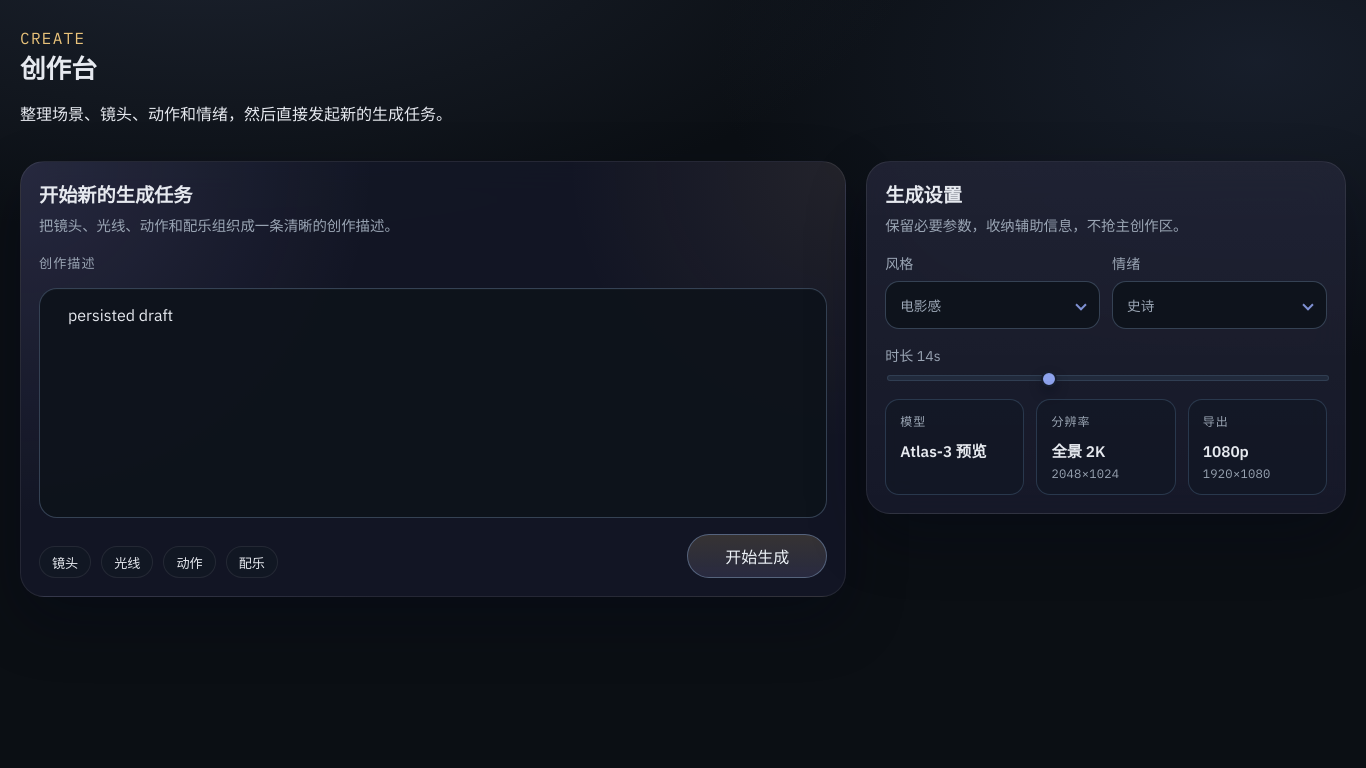
CreatePage recovery › does not overwrite the local draft when the same active session updates
The width and height of the screenshot is (1366, 768).
Replace the text in the text box showing "persisted draft" with "locally edited draft": (433, 403) [39,288,827,518]
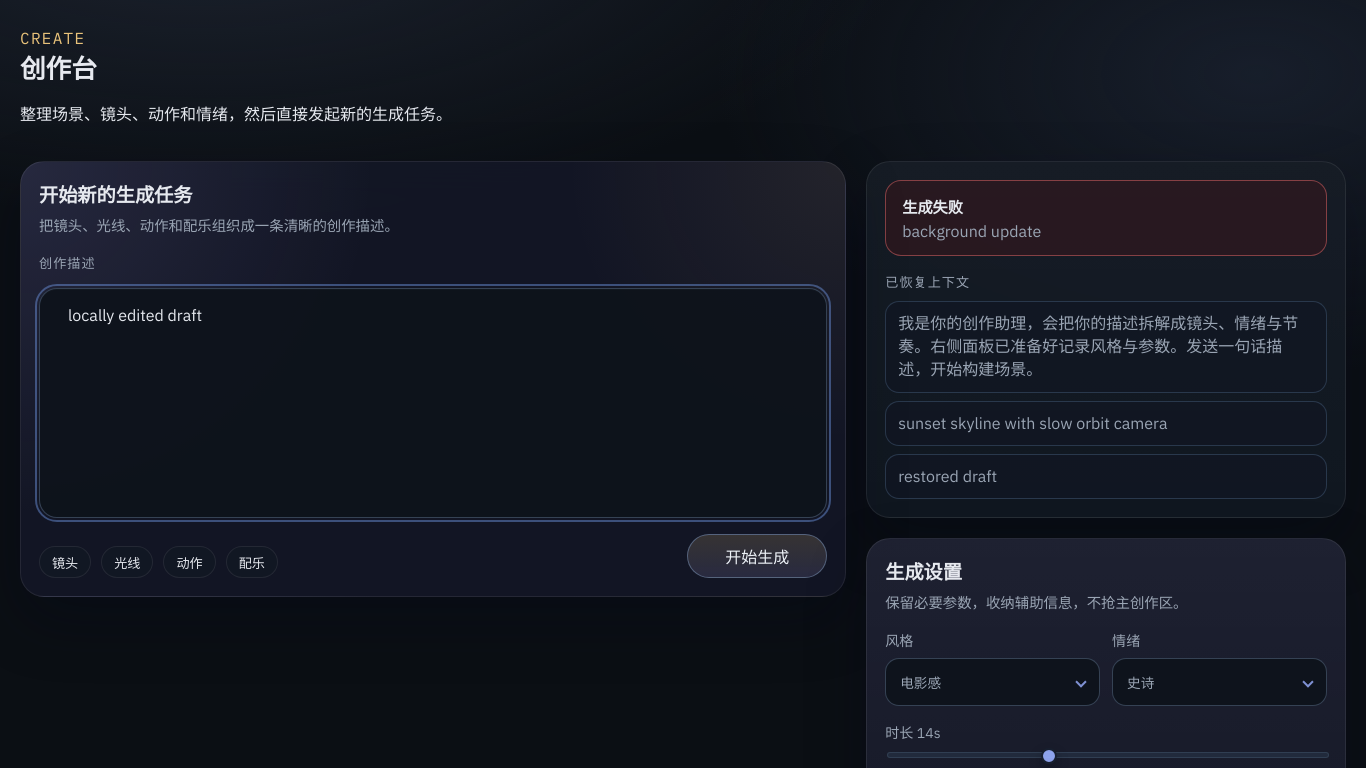
Now the text "生成失败" is shown, box [902,197,963,217]
Now the text "background update" is shown, box [902,221,1041,241]
